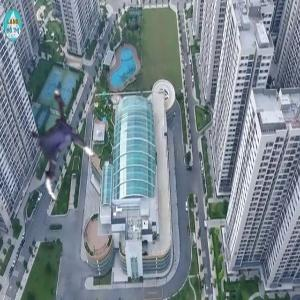drone: (12, 101, 112, 201)
